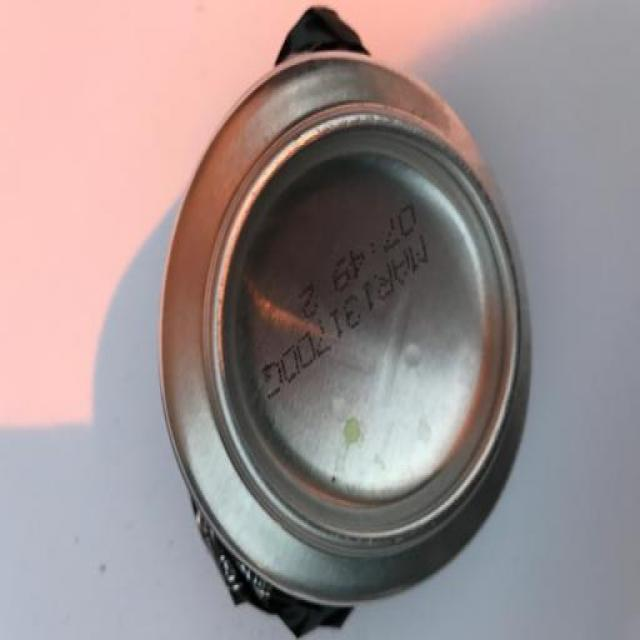metel: (169, 68, 528, 593)
